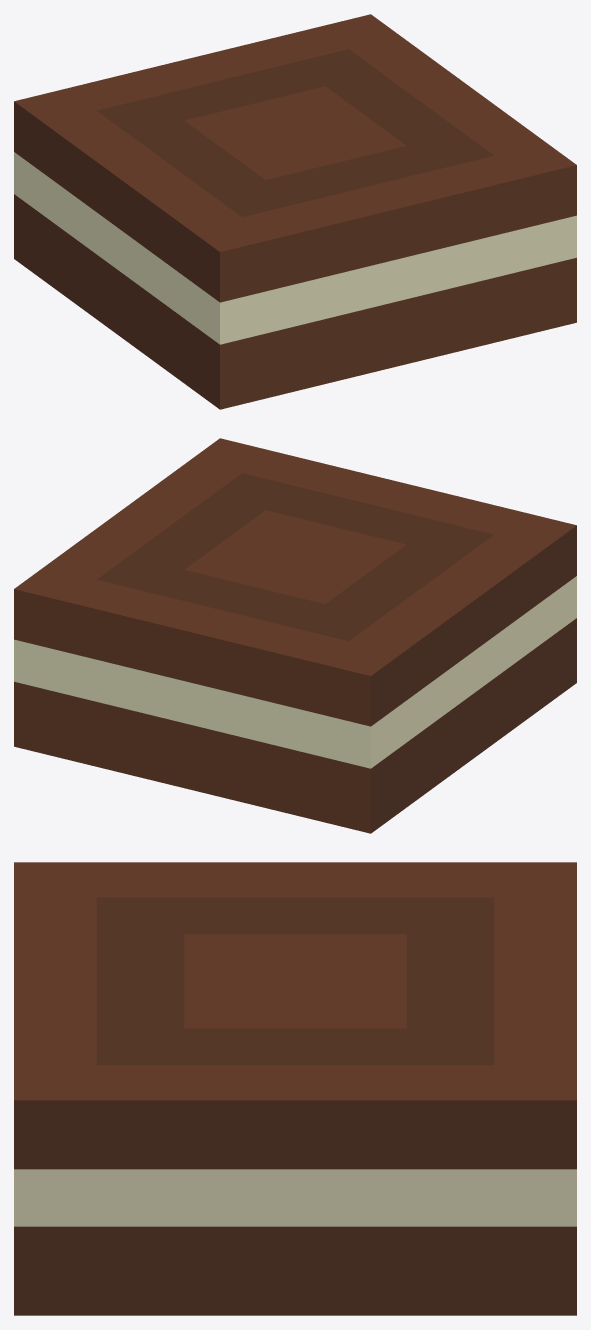
Rendered from Cookie2.glb.
3 views of the same model, one above another, from view 1: azimuth 30°, elevation 25°; view 2: azimuth 150°, elevation 25°; view 3: azimuth 270°, elevation 25° (orthographic). The views are drawn at different scales.
Visible parts, largest first — view 1: SI_Food_Bakery_Cookie_02; view 2: SI_Food_Bakery_Cookie_02; view 3: SI_Food_Bakery_Cookie_02.
Boxes of the visible parts, left/top/right/bottom form: SI_Food_Bakery_Cookie_02: left=14, top=14, right=576, bottom=409; SI_Food_Bakery_Cookie_02: left=14, top=438, right=576, bottom=833; SI_Food_Bakery_Cookie_02: left=14, top=862, right=576, bottom=1315.
Size of the model in its own units: 0.00192 by 0.000808 by 0.00192.
1 material, 1 textured.
